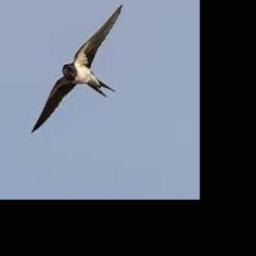Swallow: (31, 4, 124, 135)
